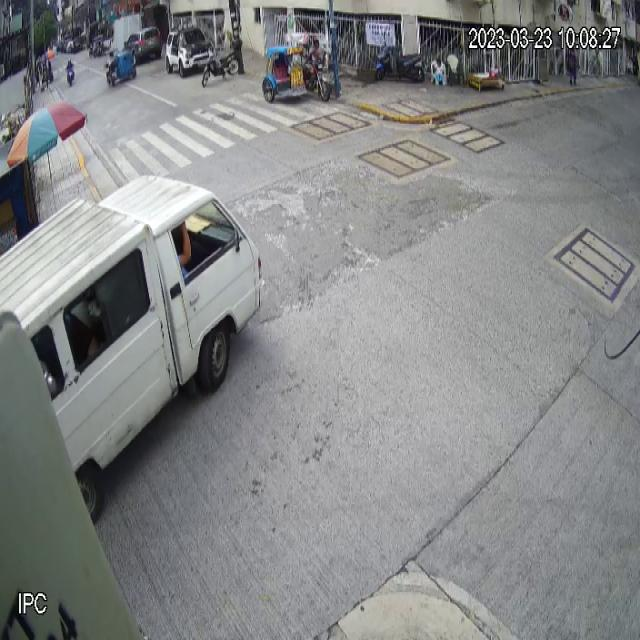Motorcycle: (201, 37, 243, 88), (374, 42, 424, 84)
Tricycle: (262, 31, 331, 103)
Van: (1, 168, 268, 524)
